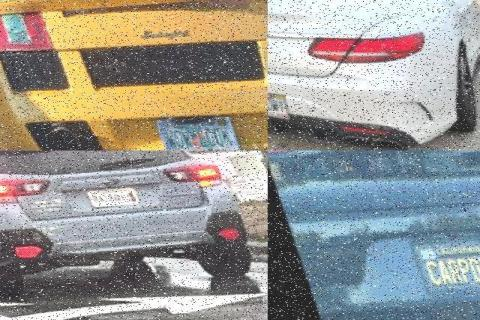LicensePlate: (409, 230, 480, 295), (150, 112, 235, 149), (81, 183, 136, 204), (266, 90, 285, 118)
